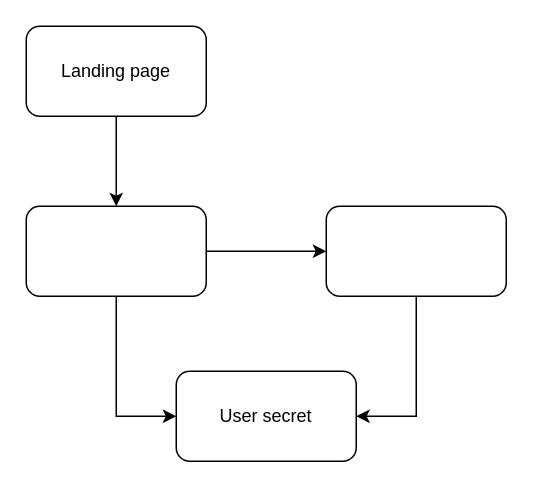
This 533x488 diagram has some shape labels left out. Here are the shapes that lost their labels. From the top down, the centre of each, then its label:
At pixel 115 250: "Login".
At pixel 415 250: "Register".
